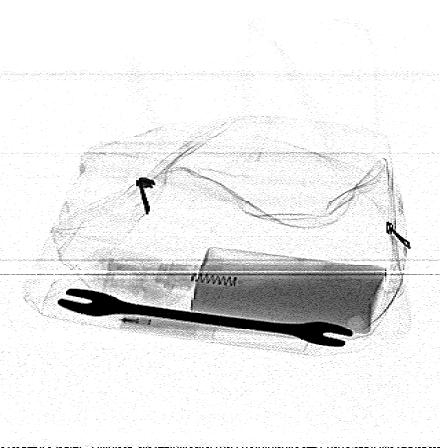Wrench: (54, 288, 355, 346)
